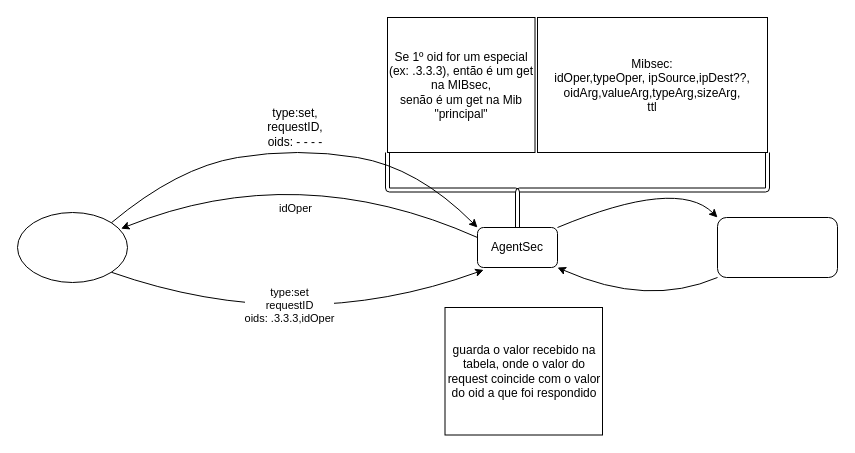
Some shapes in this 855 by 453 pixel diagram are drawn without their labels. The box of each missing label's shape, as (x1, y1, x2, y2) in pixels:
Manager: (16, 212, 128, 282)
MIBP: (716, 216, 838, 278)
